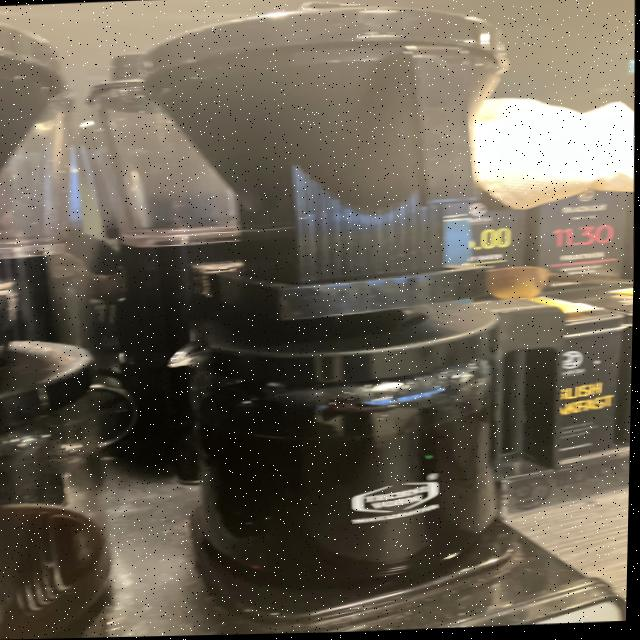coffee: (173, 291, 554, 590), (0, 328, 117, 639)
